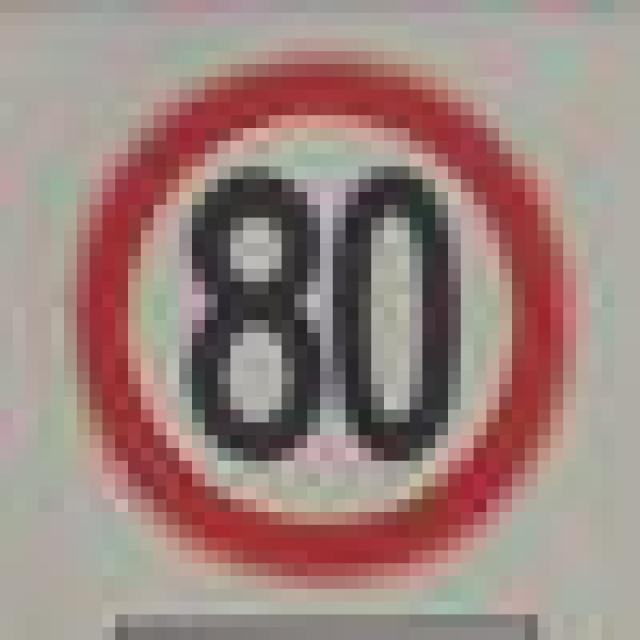speed_limit_50: (64, 39, 563, 564)
